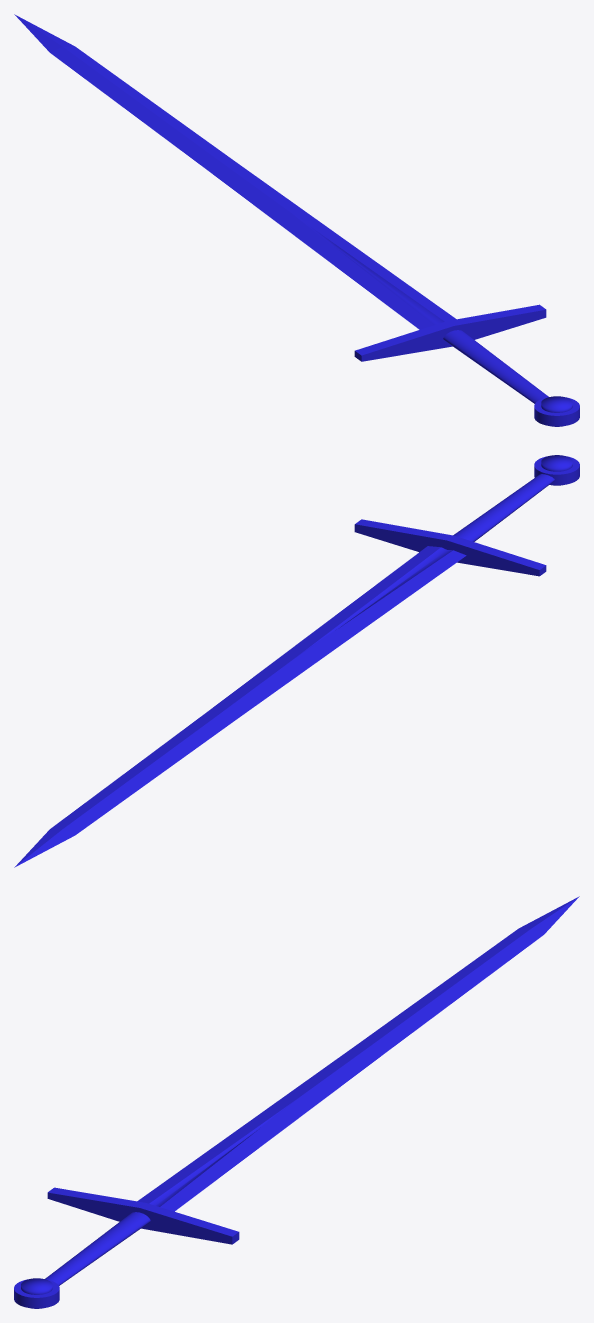
File: Double_knife.fbx
3 renders of one model, top to bottom at view 1: azimuth 30°, elevation 25°; view 2: azimuth 150°, elevation 25°; view 3: azimuth 330°, elevation 25°, orthographic.
Parts seen in each view (by area): view 1: Cube.001; view 2: Cube.001; view 3: Cube.001.
Boxes of the visible parts, <box> form: Cube.001: <box>14,14,579,426</box>; Cube.001: <box>14,455,579,867</box>; Cube.001: <box>14,896,579,1308</box>.
Size of the model in its own units: 35.31 by 3.72 by 183.
